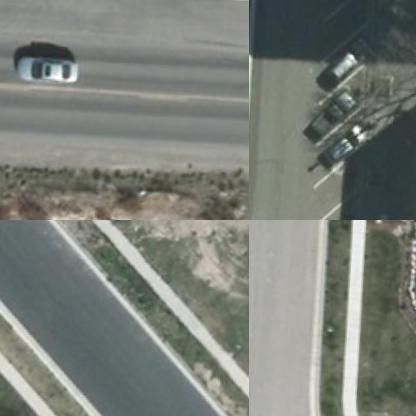car: (306, 76, 365, 135), (314, 35, 374, 84), (316, 125, 378, 160), (17, 56, 81, 86)
